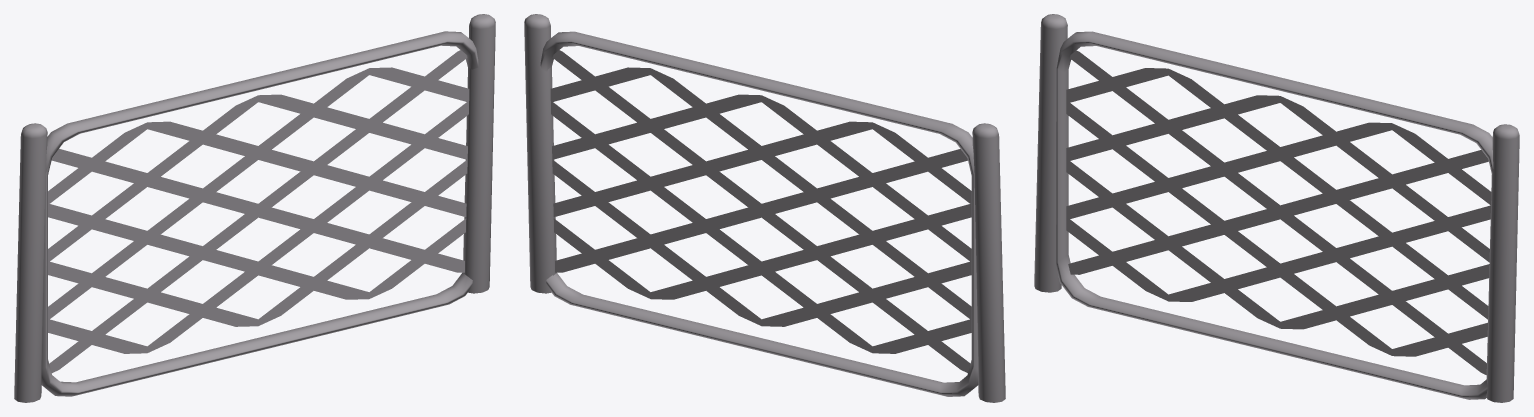
File: telcit.fbx
3 views of the same model, side by side, from view 1: azimuth 30°, elevation 25°; view 2: azimuth 150°, elevation 25°; view 3: azimuth 330°, elevation 25° (orthographic).
Parts seen in each view (by area): view 1: telçit.002, telçit; view 2: telçit.002, telçit; view 3: telçit.002, telçit.
Part boxes in pixels (x1,y1,x2,y2): telçit.002: (48, 50, 469, 372); telçit: (14, 14, 495, 402); telçit.002: (550, 50, 971, 372); telçit: (524, 14, 1005, 402); telçit.002: (1066, 50, 1491, 374); telçit: (1034, 14, 1519, 402).
Bounding box in the file's own units: 308 × 171 × 13.99.
Materials: 1 (1 with a texture image).
